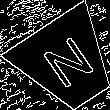N_SE: (36, 31, 99, 95)
